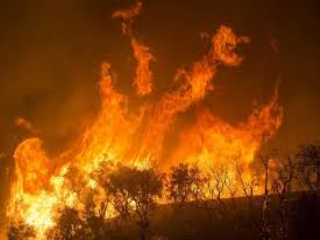fire: (5, 52, 290, 222)
